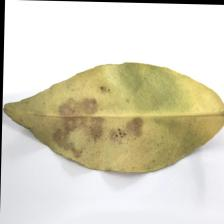black spot: (36, 88, 148, 153)
